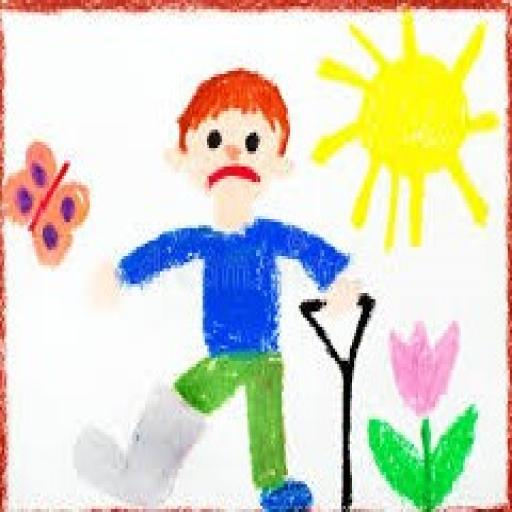person: (72, 44, 367, 512)
